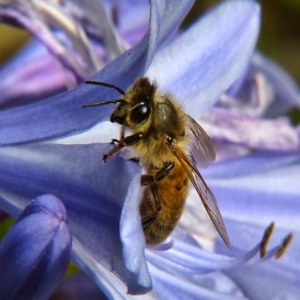bee: (80, 77, 235, 260)
